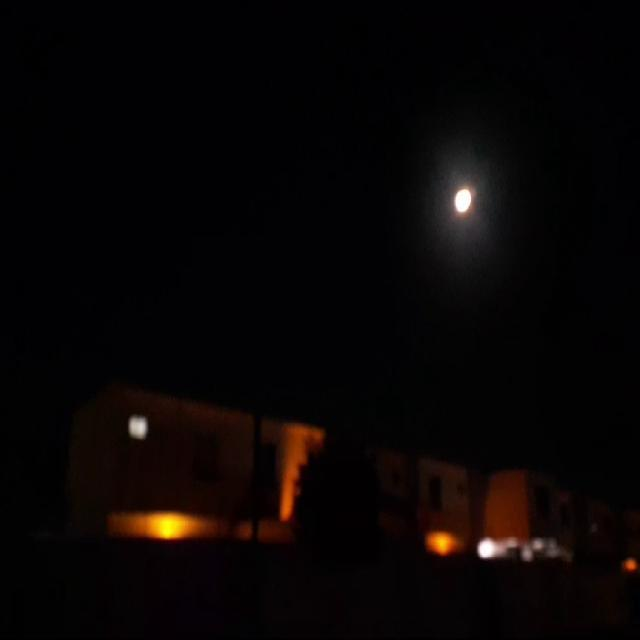moon: (449, 185, 477, 214)
